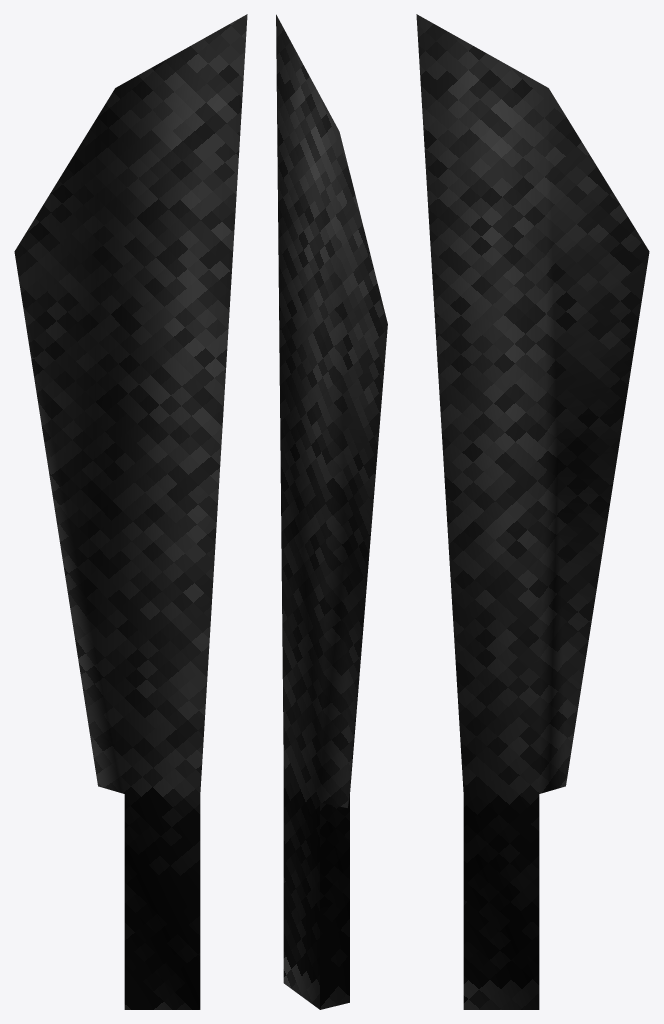
Rendered from machette.fbx.
3 views of the same model, side by side, from view 1: azimuth 90°, elevation 25°; view 2: azimuth 210°, elevation 25°; view 3: azimuth 270°, elevation 25° (orthographic). The views are drawn at different scales.
Parts seen in each view (by area): view 1: Cube; view 2: Cube; view 3: Cube.
Part boxes in pixels (left/top/right/bottom): Cube: left=14, top=14, right=247, bottom=1009; Cube: left=276, top=14, right=387, bottom=1009; Cube: left=416, top=14, right=649, bottom=1009.
Bounding box in the file's own units: 15.84 × 483 × 103.
Materials: 1 (1 with a texture image).
